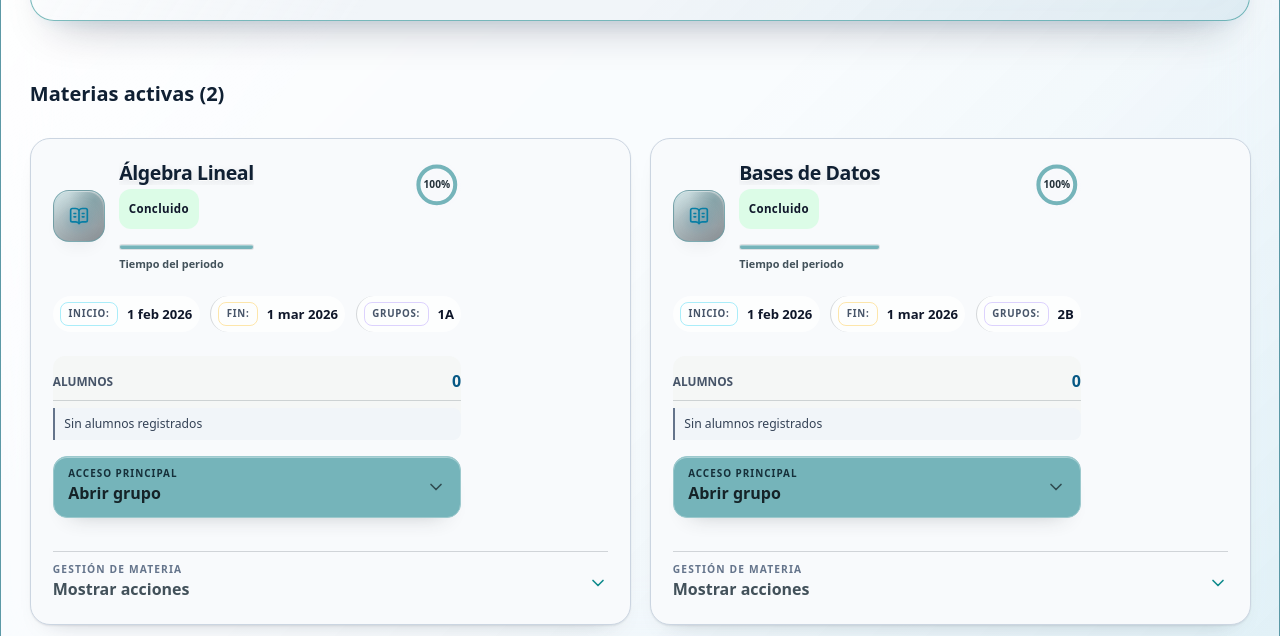
Test: SeccionPeriodos edición › distingue las acciones de cada materia y abre el panel correspondiente
(page scrolled)
Click the 2nd button "GESTIÓN DE MATERIA Mostrar acciones" at (737, 568), box x1=672 y1=551 x2=1227 y2=602
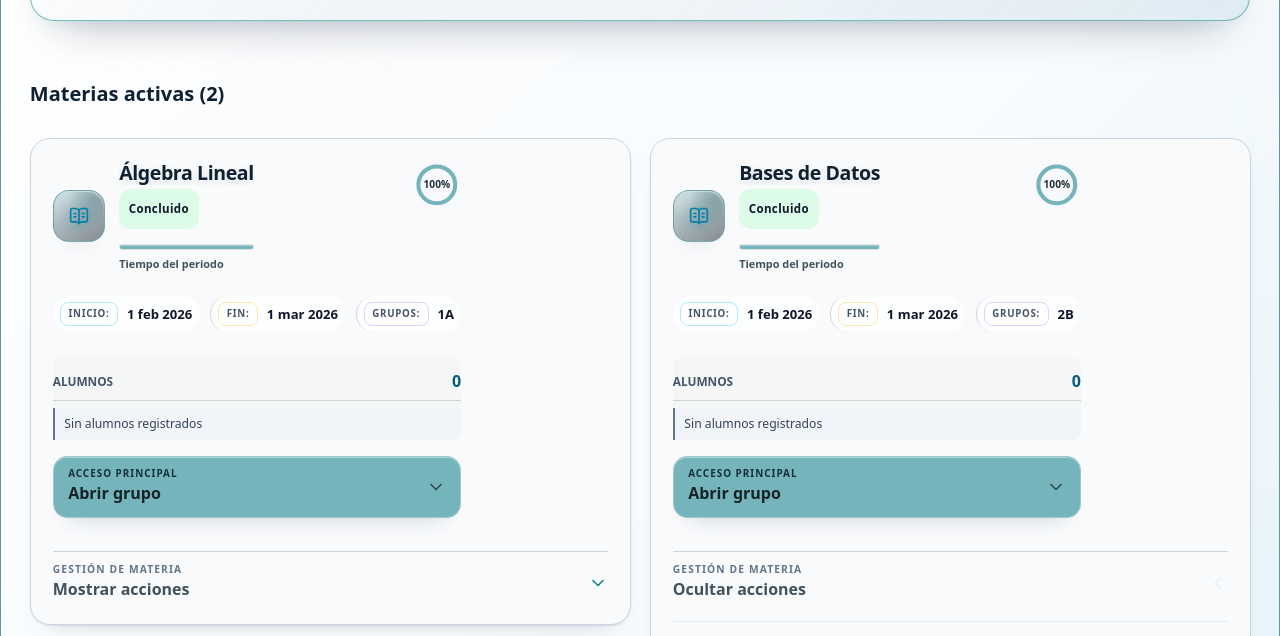
Expected: the button named "Mostrar acciones" is expanded, x1=672 y1=551 x2=1227 y2=602
Click the button "GESTIÓN DE MATERIA Mostrar acciones" at (117, 568), box x1=52 y1=551 x2=608 y2=602
(page scrolled)
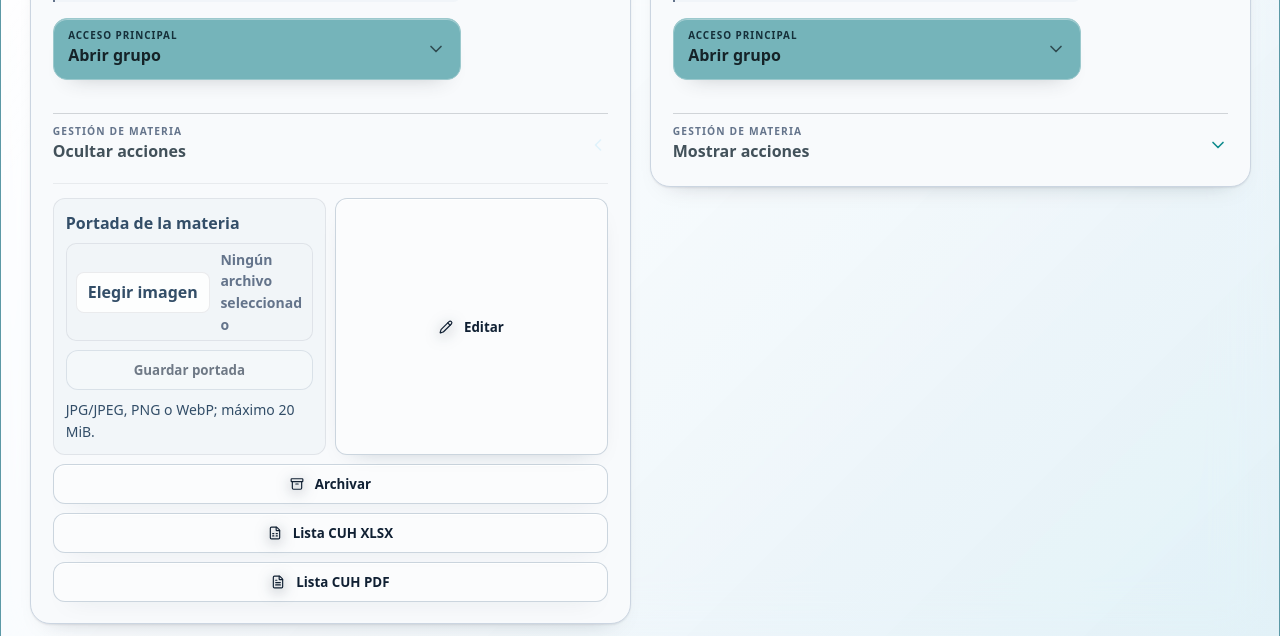
Expected: the button with aria-label "Editar materia Álgebra Lineal" is shown, x1=334 y1=198 x2=608 y2=455
Expected: the button with aria-label "Archivar materia Álgebra Lineal" is shown, x1=52 y1=464 x2=608 y2=504
